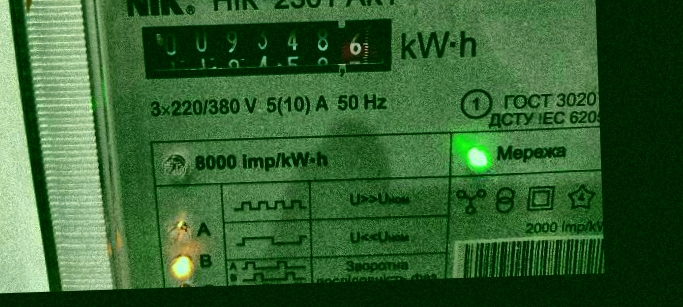0: (193, 29, 209, 52), (163, 30, 177, 56)
3: (254, 26, 269, 52)
4: (284, 25, 299, 52)
6: (346, 29, 364, 57)
8: (314, 25, 330, 53)
9: (223, 28, 239, 54)
screen: (131, 10, 403, 88)
